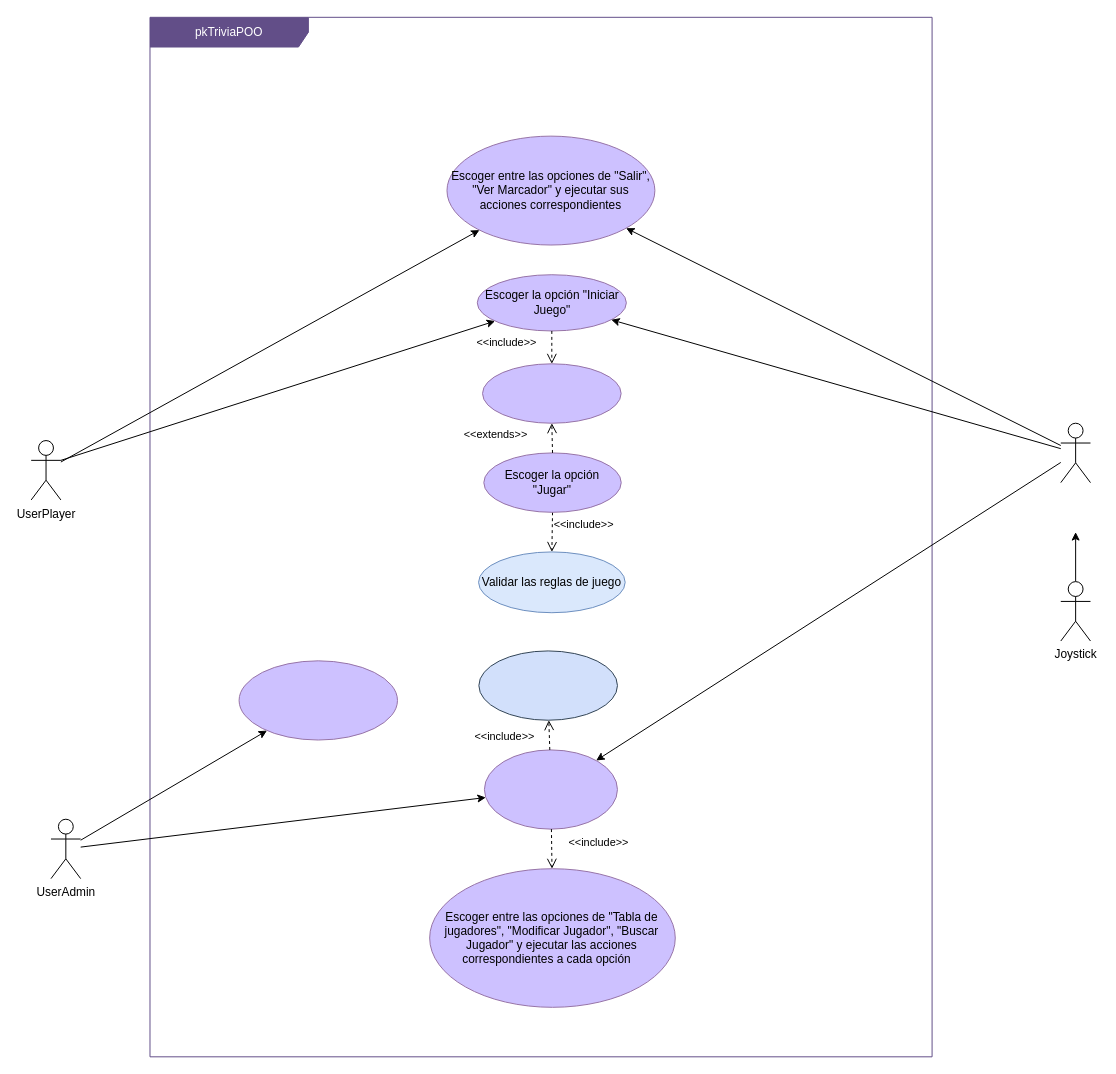
This 1116x1074 diagram has some shape labels left out. Here are the shapes that lost their labels. From the top down, the centre of each, then its label:
[551,393]: Escribir su nombre de usuario
[1075,452]: Liminalis System
[317,700]: Escoger entre las opciones de control "Salir" o "Regresar" (al panel anterior)
[547,685]: Ingresar usuario, contraseña y validar credenciales
[550,789]: Escoger la opción "Acceso Admin"
